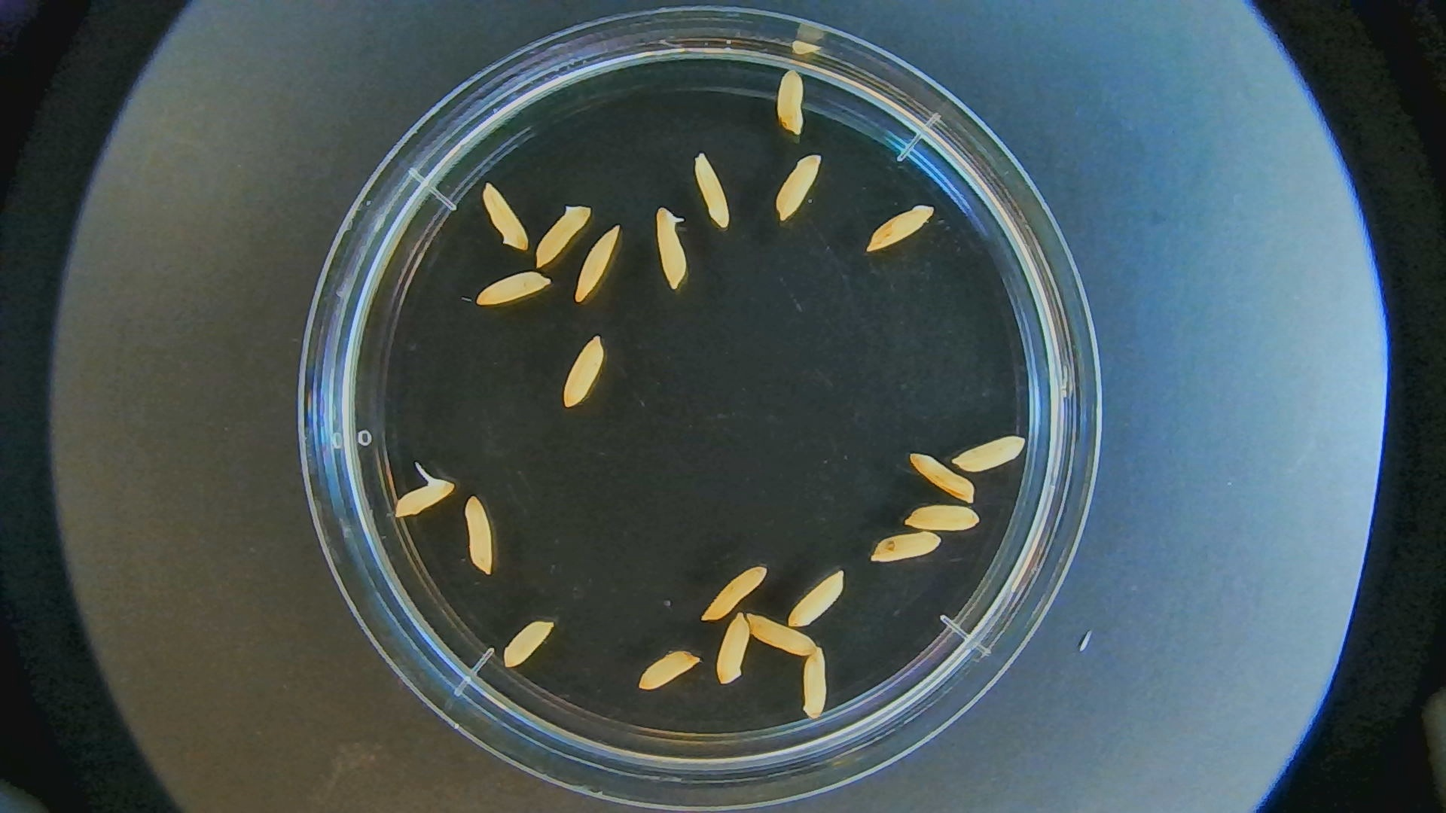no: (702, 562, 770, 623), (907, 452, 977, 504), (537, 204, 593, 268), (868, 204, 939, 254), (575, 224, 621, 301), (786, 569, 845, 629), (773, 154, 825, 222), (558, 334, 606, 406), (483, 182, 530, 252), (696, 151, 733, 230), (955, 433, 1028, 473), (749, 613, 816, 656), (501, 618, 555, 671), (462, 492, 495, 575), (870, 529, 944, 565), (476, 273, 552, 308), (716, 613, 752, 684), (637, 650, 699, 690), (902, 503, 982, 534), (776, 65, 806, 136), (801, 651, 828, 720)
yes: (654, 204, 693, 291), (390, 477, 456, 520)
